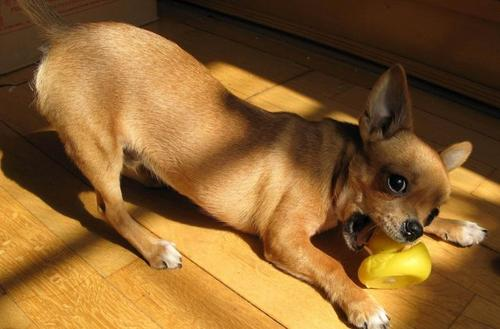dog: (333, 69, 474, 269)
